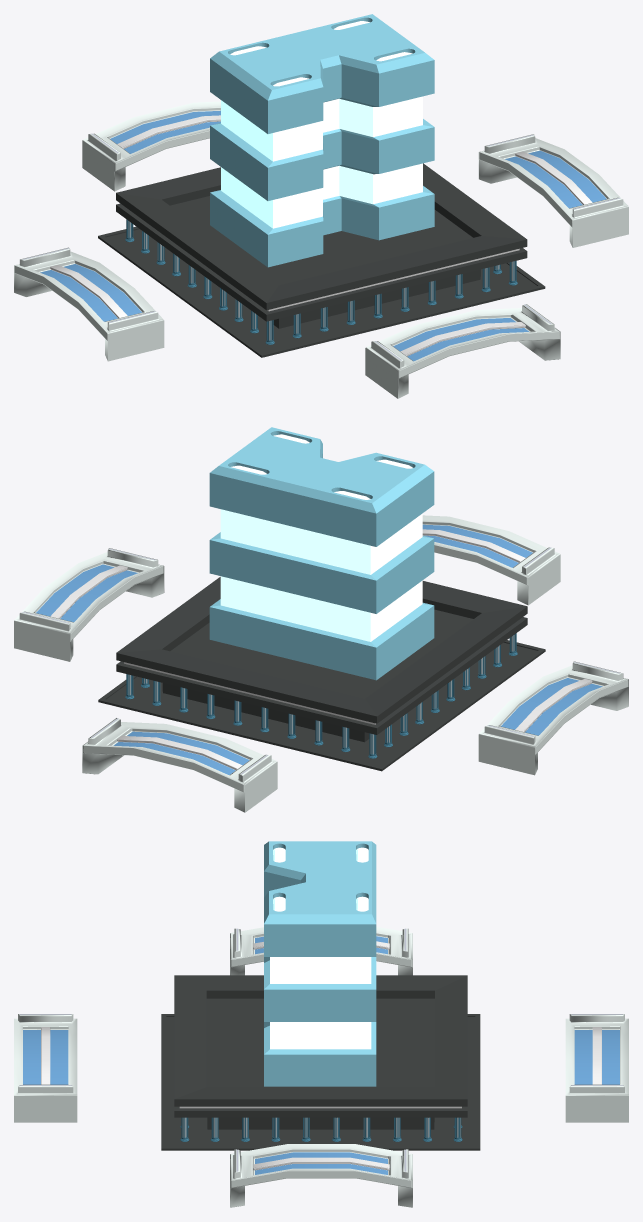
The model's file is VR GBL Building Unity Ready.fbx.
The picture shows the model from 3 angles, top to bottom: view 1: azimuth 30°, elevation 25°; view 2: azimuth 150°, elevation 25°; view 3: azimuth 270°, elevation 25°; orthographic projection. The views are drawn at different scales.
Visible parts, largest first — view 1: Bangunan kecil_depan1; view 2: Bangunan kecil_depan1; view 3: Bangunan kecil_depan1.
Boxes of the visible parts, <box> form: Bangunan kecil_depan1: <box>14,14,628,398</box>; Bangunan kecil_depan1: <box>14,427,628,812</box>; Bangunan kecil_depan1: <box>14,841,628,1207</box>.
Bounding box in the file's own units: 2120 × 825 × 2225.
